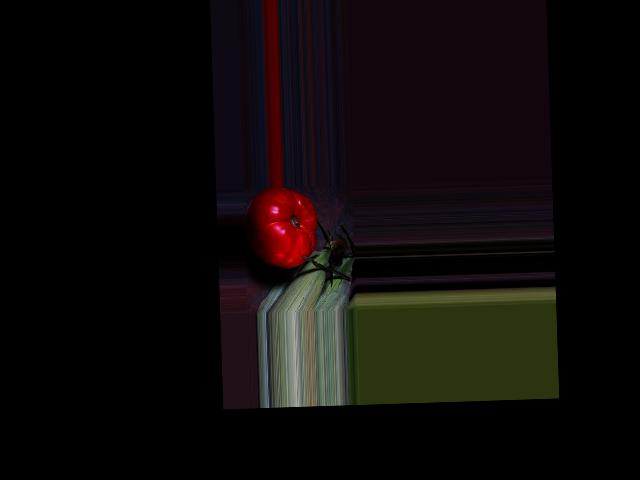tomato: (242, 186, 318, 269)
